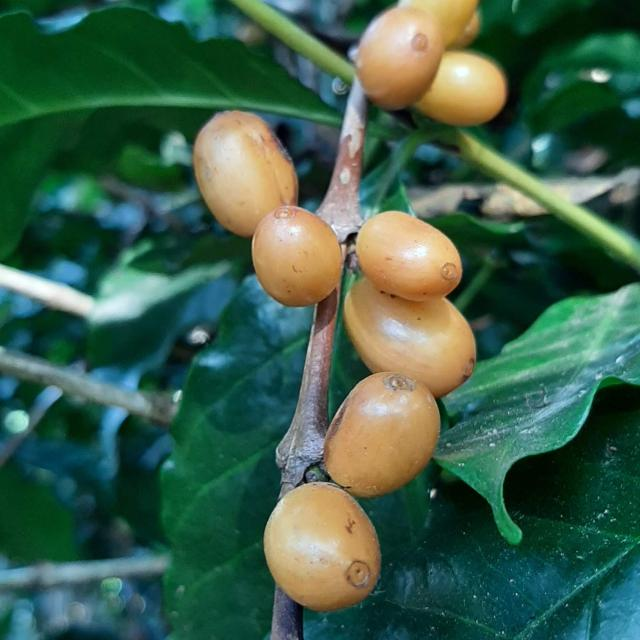red: (344, 278, 477, 398), (264, 483, 381, 613), (324, 373, 440, 499), (193, 110, 298, 237), (356, 211, 463, 301), (252, 205, 343, 307), (356, 7, 445, 109), (415, 50, 508, 125), (399, 0, 479, 46)
